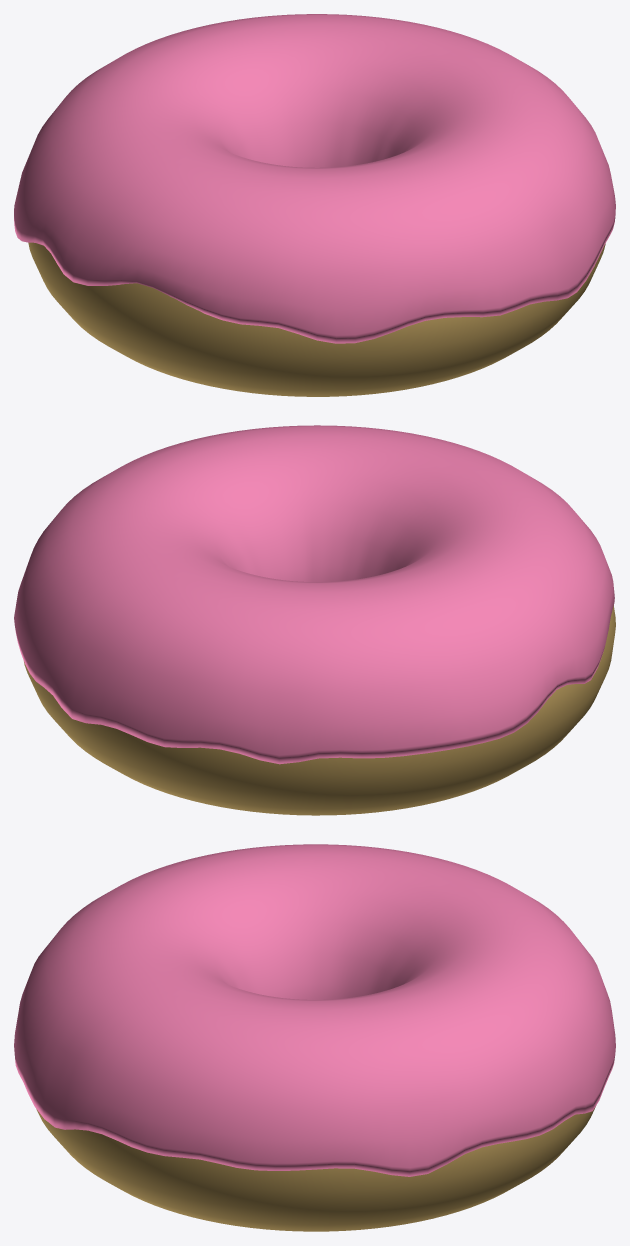
File: mug.fbx_Collection.fbx
3 views of the same model, one above another, from view 1: azimuth 30°, elevation 25°; view 2: azimuth 150°, elevation 25°; view 3: azimuth 270°, elevation 25° (orthographic).
Visible parts, largest first — view 1: Torus.001, Torus; view 2: Torus.001, Torus; view 3: Torus.001, Torus.
Part boxes in pixels (x1,y1,x2,y2): Torus.001: [14, 14, 615, 343]; Torus: [28, 242, 605, 396]; Torus.001: [14, 425, 614, 764]; Torus: [24, 605, 615, 815]; Torus.001: [14, 844, 615, 1176]; Torus: [36, 1106, 595, 1231].
Size of what is drawn, in the model's own units: 235 by 90.76 by 235.
